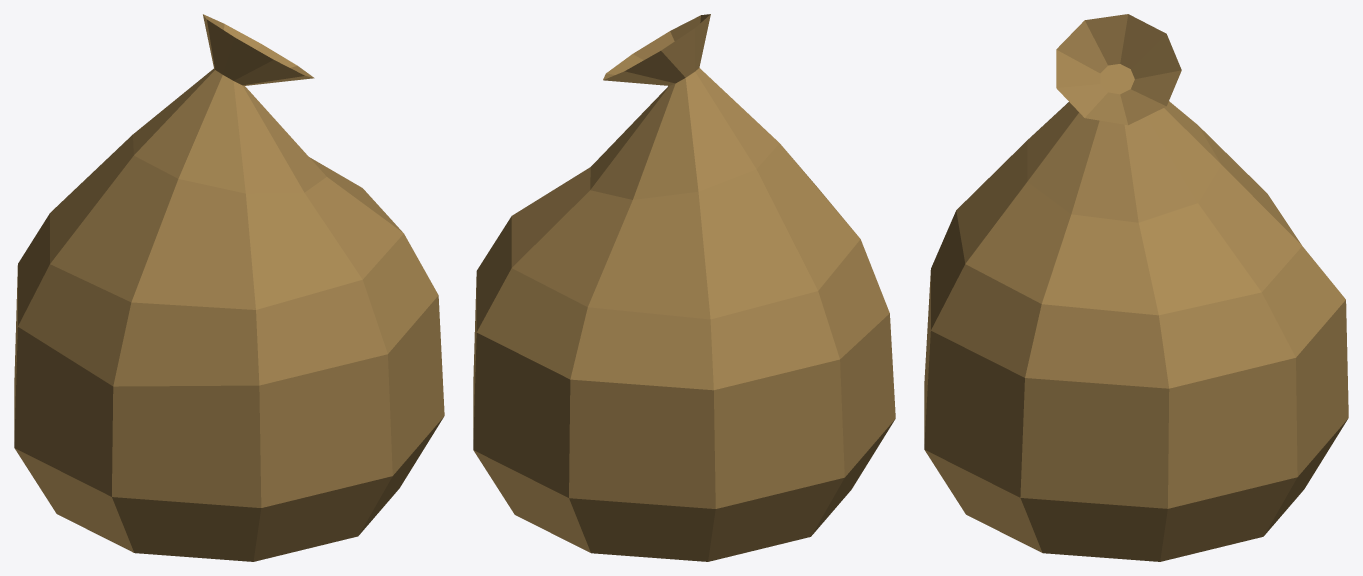
The model's file is moedas.fbx.
The picture shows the model from 3 angles, left to right: view 1: azimuth 30°, elevation 25°; view 2: azimuth 150°, elevation 25°; view 3: azimuth 270°, elevation 25°; orthographic projection.
Parts seen in each view (by area): view 1: Circle; view 2: Circle; view 3: Circle.
Part boxes in pixels (x1,y1,x2,y2): Circle: (14,14,444,561); Circle: (473,14,895,561); Circle: (924,14,1348,561).
Bounding box in the file's own units: 108 × 141 × 106.
